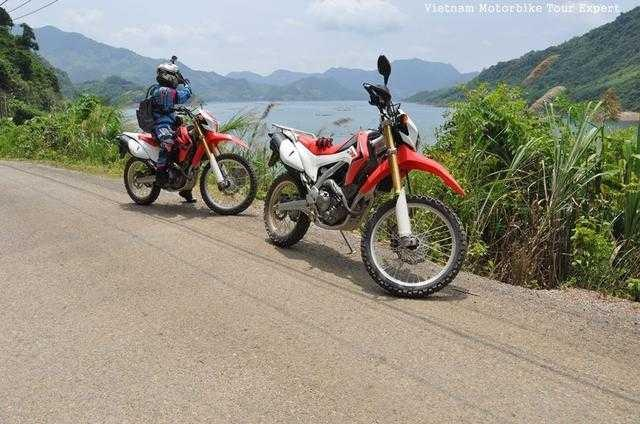motorbike: (262, 55, 468, 299), (117, 109, 258, 216)
